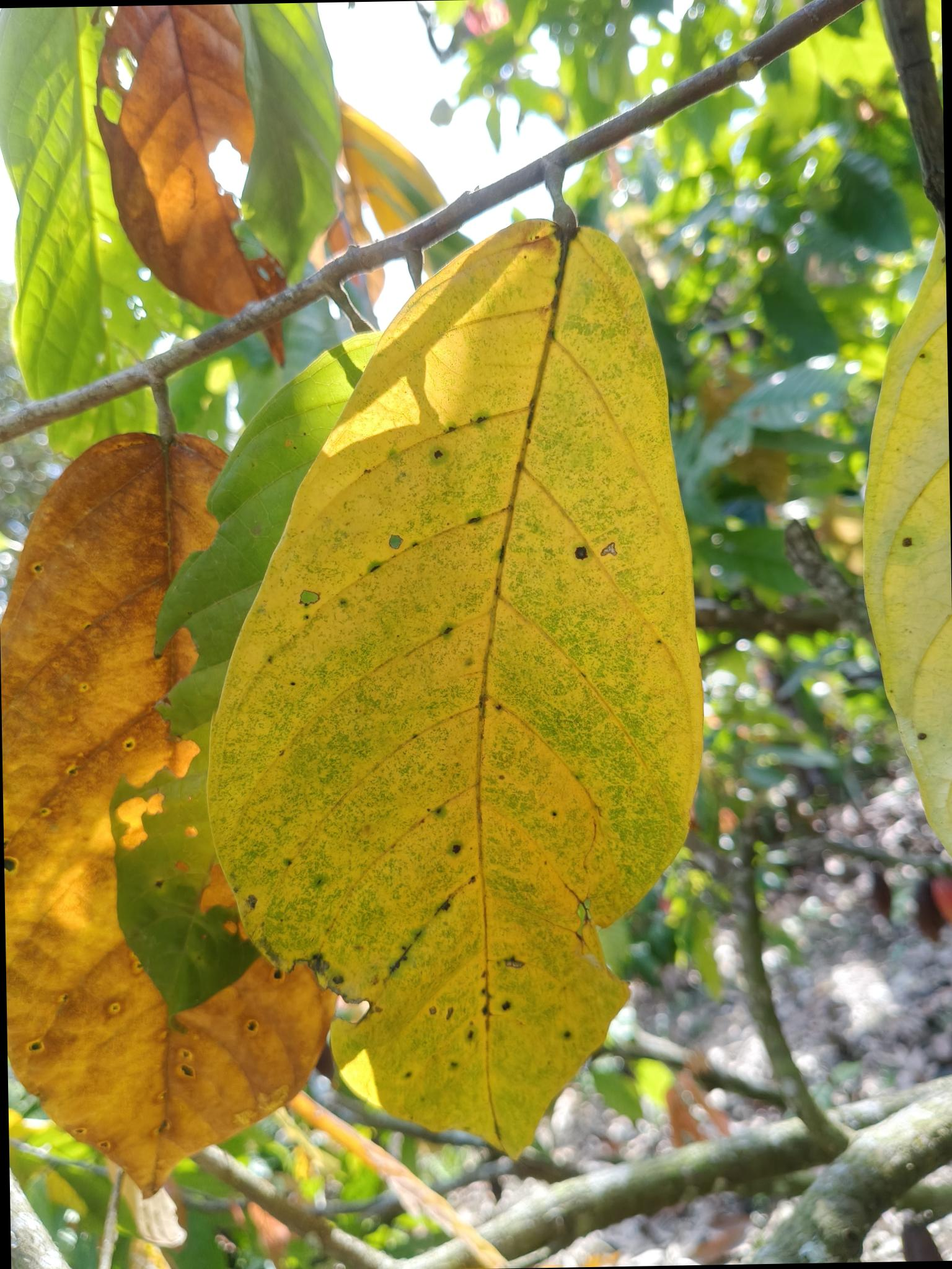Fosforo: (155, 192, 725, 1168), (0, 433, 311, 1190), (95, 4, 285, 316)
